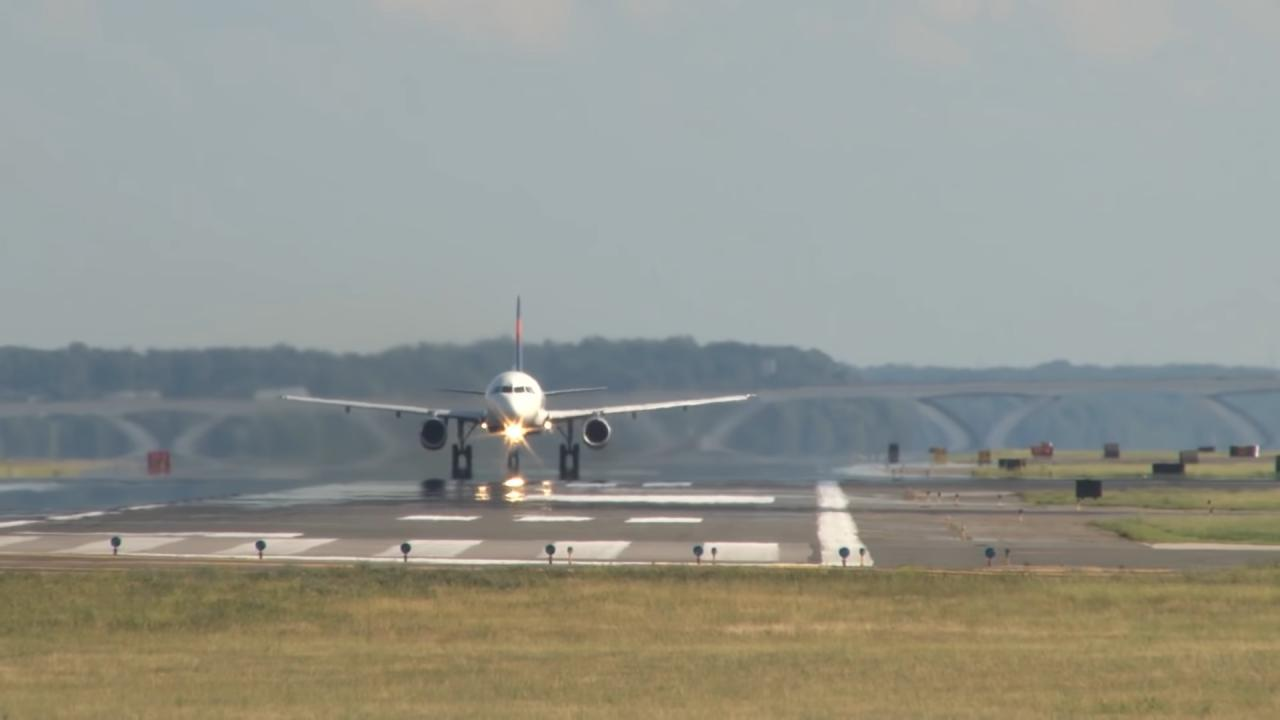Airplane: (264, 283, 765, 497)
